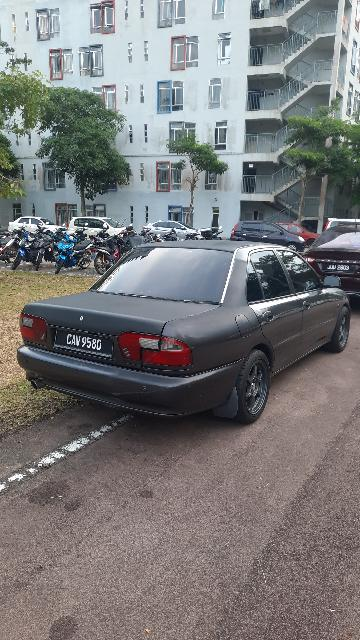License_Plate: (50, 324, 118, 363)
car: (17, 238, 357, 427)
